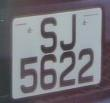2: (57, 48, 79, 92), (77, 44, 98, 87)
5: (16, 51, 41, 98)
6: (38, 52, 59, 94)
J: (58, 12, 81, 54)
S: (38, 14, 61, 58)
